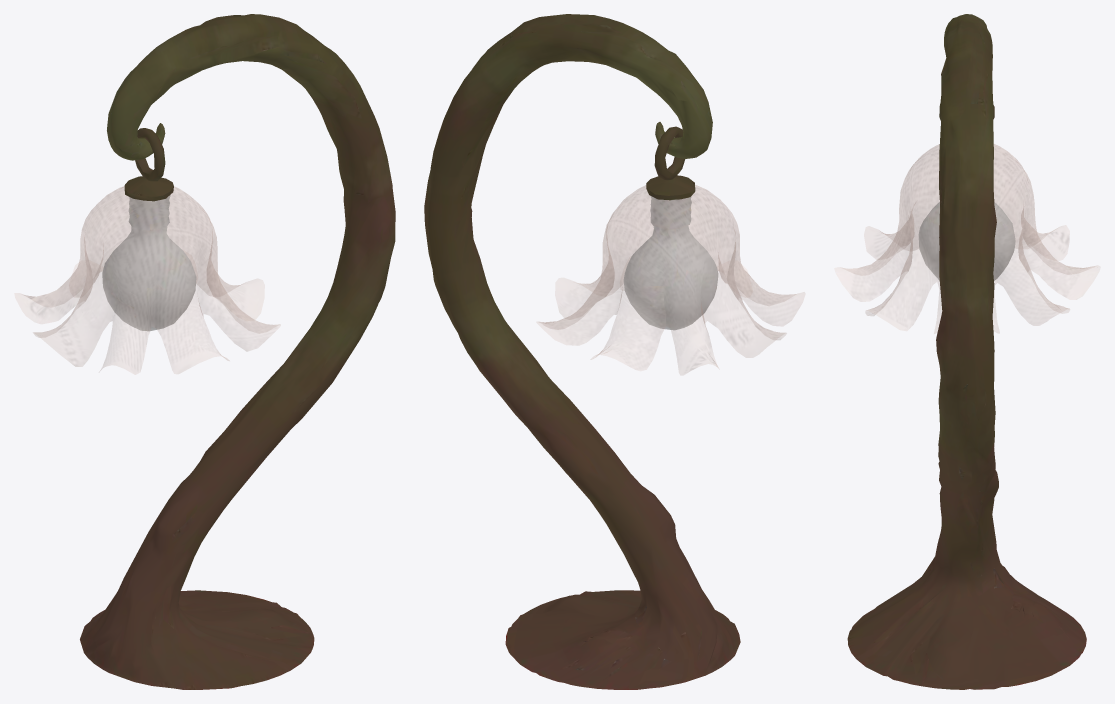
The model's file is lights_punctual_lamp.glb.
3 renders of one model, left to right at view 1: azimuth 30°, elevation 25°; view 2: azimuth 150°, elevation 25°; view 3: azimuth 270°, elevation 25°, orthographic.
Bounding box in the file's own units: 1.13 × 1.86 × 0.7216.
3 materials, 3 textured.
